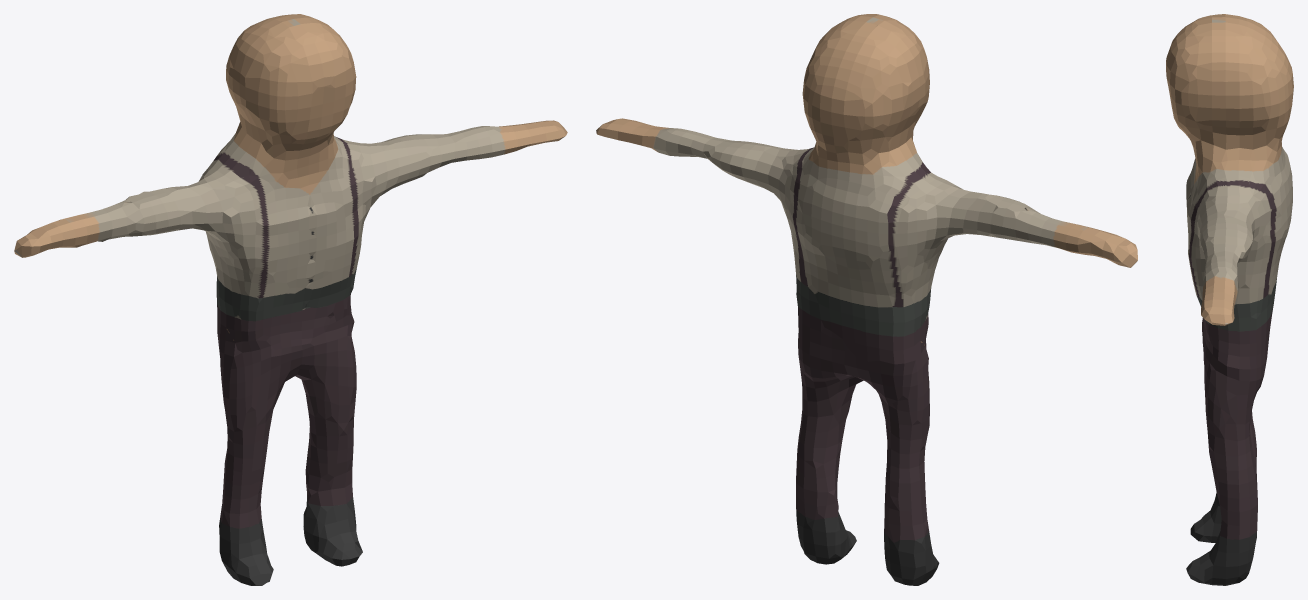
The model's file is gang_1.fbx.
The picture shows the model from 3 angles, left to right: view 1: azimuth 30°, elevation 25°; view 2: azimuth 150°, elevation 25°; view 3: azimuth 270°, elevation 25°; orthographic projection.
Visible parts, largest first — view 1: Gang_1; view 2: Gang_1; view 3: Gang_1.
Boxes of the visible parts, x1,y1,x2,y2 form: Gang_1: (14, 14, 567, 585); Gang_1: (596, 14, 1137, 585); Gang_1: (1166, 14, 1293, 585).
Size of the model in its own units: 529 by 506 by 109.
1 material, 1 textured.
